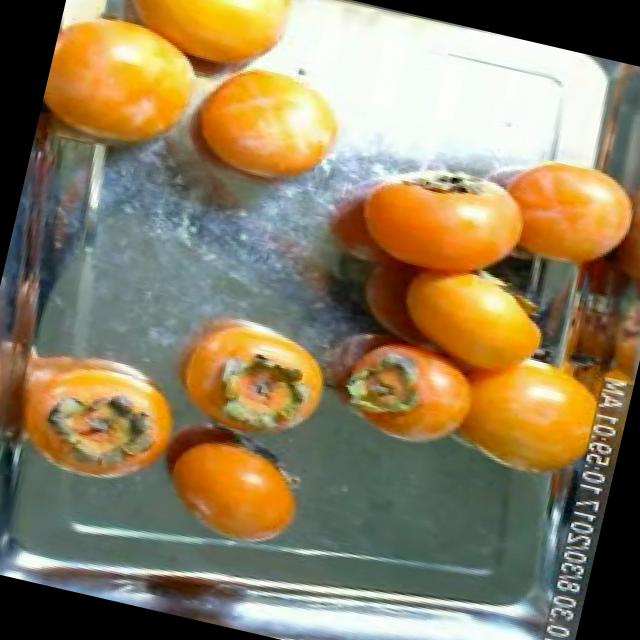Fruit: (0, 323, 198, 506), (167, 35, 370, 210), (140, 416, 322, 565), (470, 141, 640, 292), (203, 318, 345, 456)
